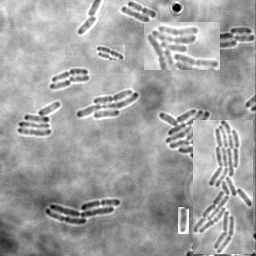Dividing: (52, 67, 89, 81), (128, 1, 157, 18), (96, 45, 125, 60), (178, 207, 189, 234)
Microcolony: (193, 120, 253, 254), (144, 22, 220, 70), (76, 88, 139, 119), (45, 199, 121, 224), (18, 101, 61, 136), (221, 27, 255, 48)
Rod: (121, 5, 150, 23), (78, 16, 99, 34), (50, 79, 72, 89), (69, 73, 90, 82)
